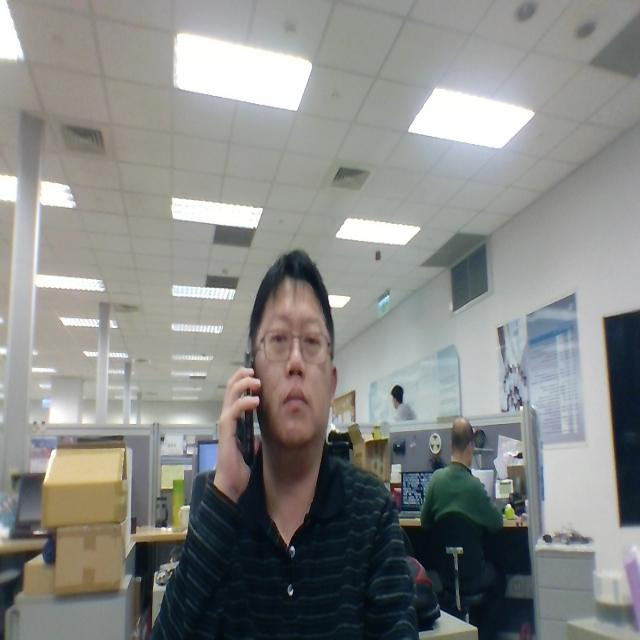phone: (211, 318, 273, 496)
